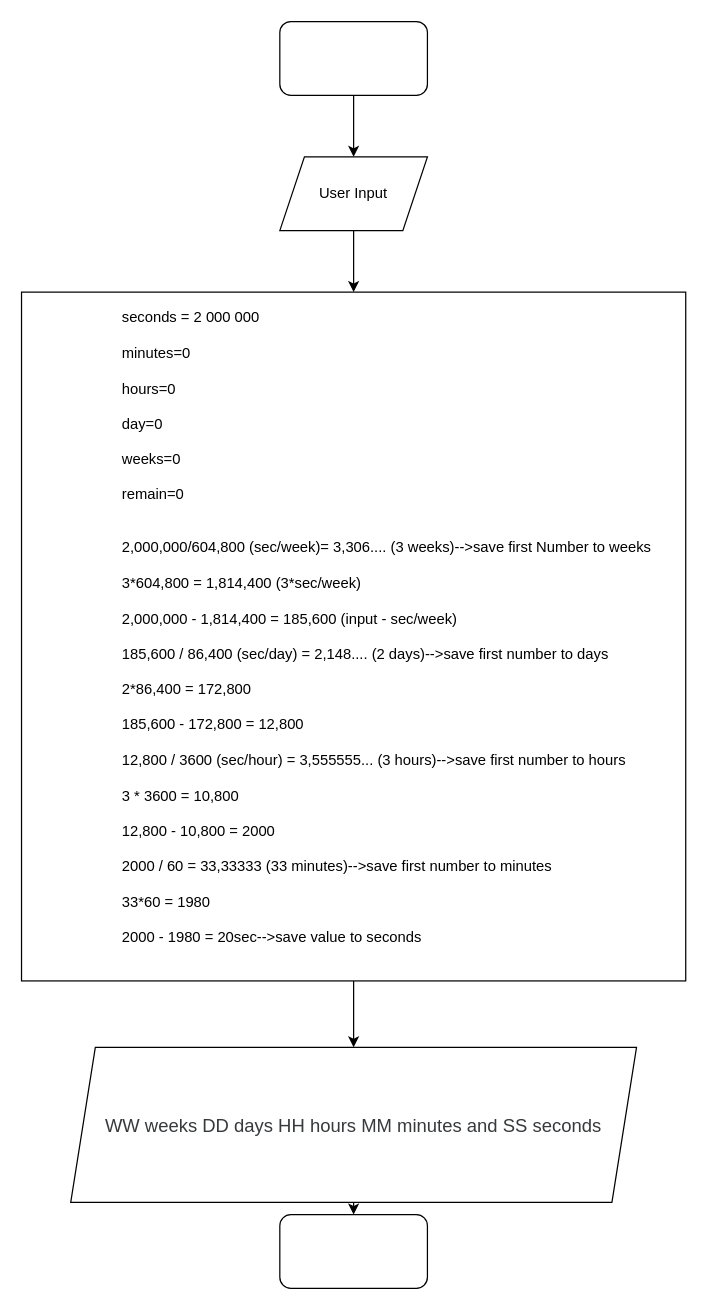
The diagram is 707 pixels wide and 1310 high, and some of its shapes have lost their labels. The box of each missing label's shape, as (x1, y1, x2, y2) in pixels:
End: (279, 1213, 427, 1288)
Start: (279, 20, 427, 95)
